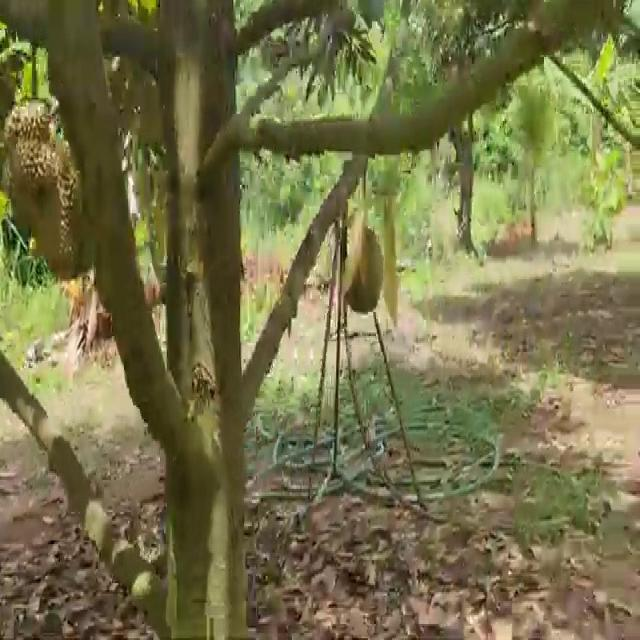durian: (15, 134, 87, 286), (4, 92, 53, 204), (342, 214, 389, 322)
